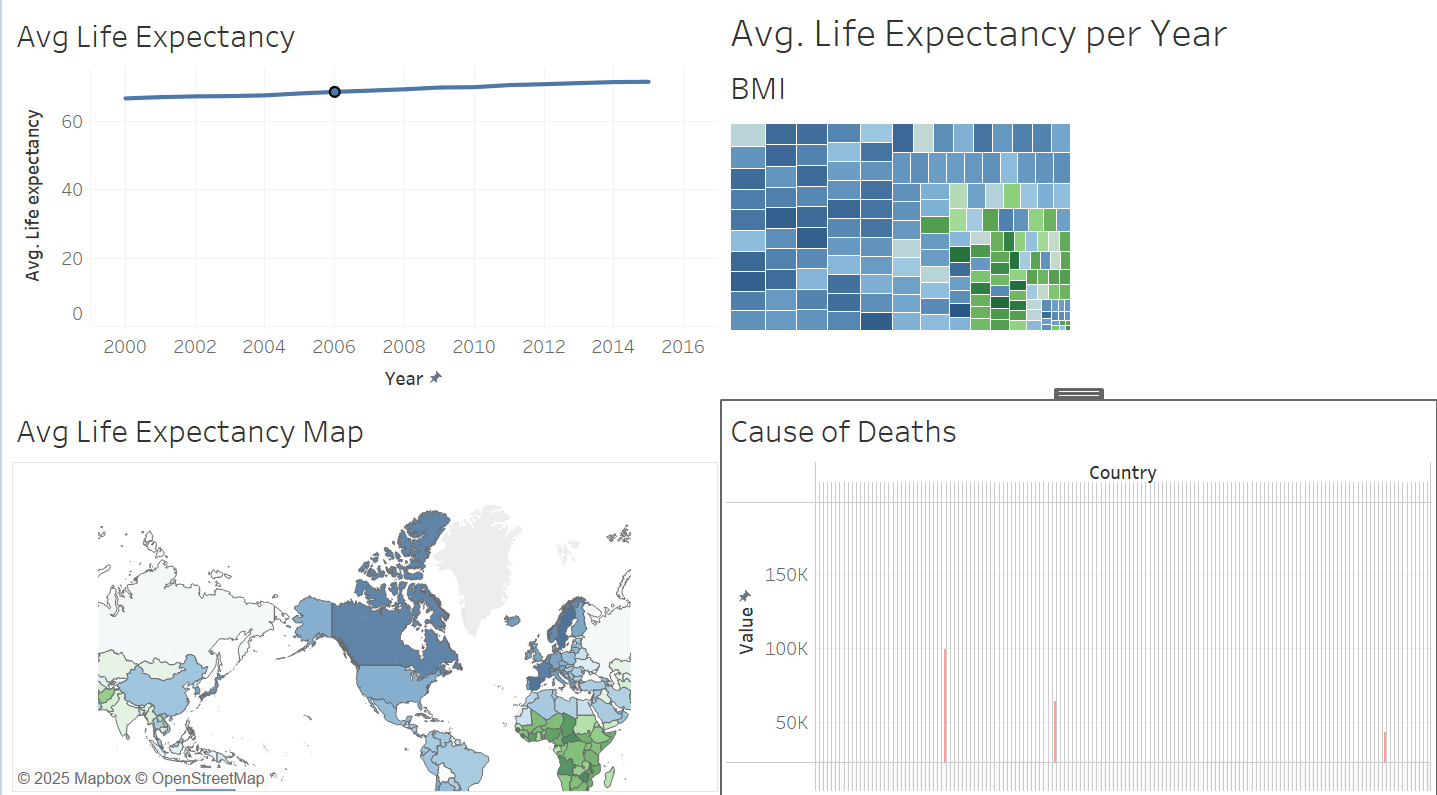

The dashboard page shown, as its layout file describes it:
{"tool":"tableau","page":{"name":"Global Trends of Life Expectancy","canvas":[1000,1000],"units":"permille","ordinal":0},"visuals":[{"type":"worksheet","title":"Avg Life Expectancy","mark":"Automatic","rows":["Life expectancy"],"cols":["Year"],"box":[5.1,10.7,444.2,489.3]},{"type":"title","box":[449.2,10.7,444.2,69.7]},{"type":"legend","title":"BMI","param":"[federated.0ynmg1y19186gq1brtdmf0wtr2wd].[avg:Life expectancy:qk]","box":[893.5,10.7,101.5,108.6]},{"type":"worksheet","title":"BMI","mark":"Automatic","box":[449.2,80.4,444.2,376.7]},{"type":"filter","title":"Cause of Deaths","param":"[federated.0ynmg1y19186gq1brtdmf0wtr2wd].[none:Country:nk]","box":[893.5,119.3,101.5,623.3]},{"type":"worksheet","title":"Avg Life Expectancy Map","mark":"Multipolygon","box":[5.1,500,444.2,489.3]},{"type":"worksheet","title":"Cause of Deaths","mark":"Automatic","cols":["Country"],"box":[449.2,500,444.2,489.3]},{"type":"legend","title":"Cause of Deaths","param":"[federated.0ynmg1y19186gq1brtdmf0wtr2wd].[:Measure Names]","box":[893.5,742.6,101.5,246.6]}]}

Visuals, with their boxes on the dashboard's canvas, which has no fixed pixel size, in thousandths of its width and height (x1, y1, x2, y2). These are canvas units, not pixel positions in the 1437x795 screenshot, which may show the page scaled, cropped or inside an application window:
"Avg Life Expectancy" worksheet: 5 11 449 500
title: 449 11 893 80
"BMI" legend: 894 11 995 119
"BMI" worksheet: 449 80 893 457
"Cause of Deaths" filter: 894 119 995 743
"Avg Life Expectancy Map" worksheet (Multipolygon marks): 5 500 449 989
"Cause of Deaths" worksheet: 449 500 893 989
"Cause of Deaths" legend: 894 743 995 989
